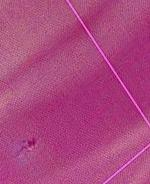knot: (20, 136, 43, 157)
